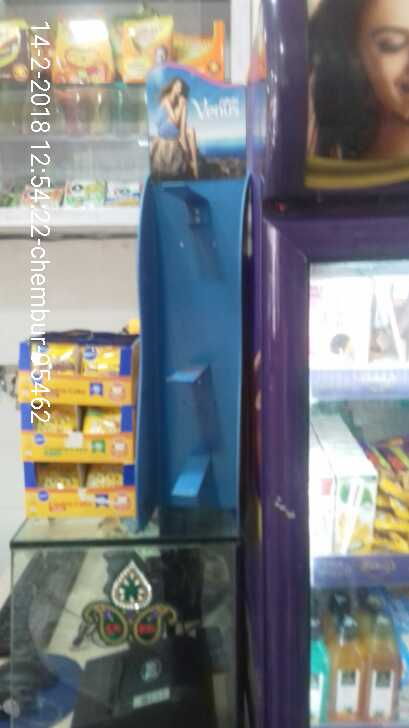reject: (127, 197, 233, 495)
